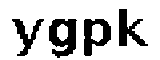g: (48, 14, 77, 60)
k: (117, 4, 150, 52)
p: (81, 14, 114, 60)
y: (6, 12, 45, 59)
